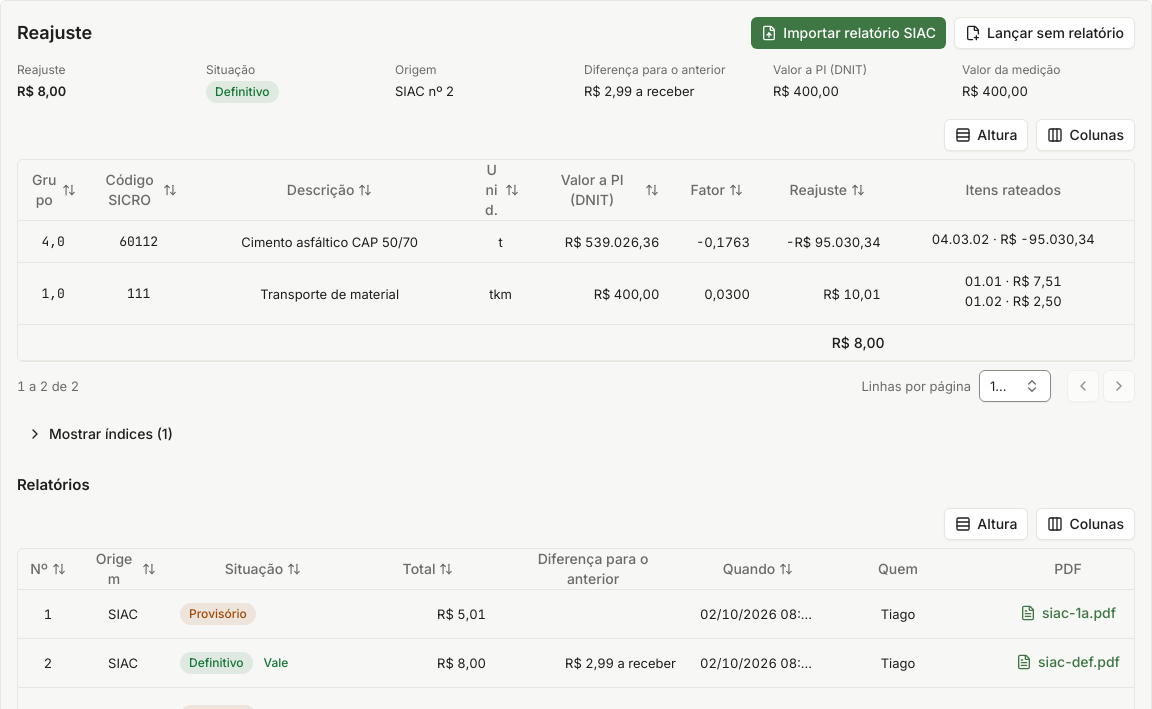
Test case: SecaoReajuste › relatório SIAC excluído libera o PDF: o mesmo arquivo aparece no Importar para ler de novo
Click the button "Importar relatório SIAC" at (849, 33), box [751, 17, 946, 49]
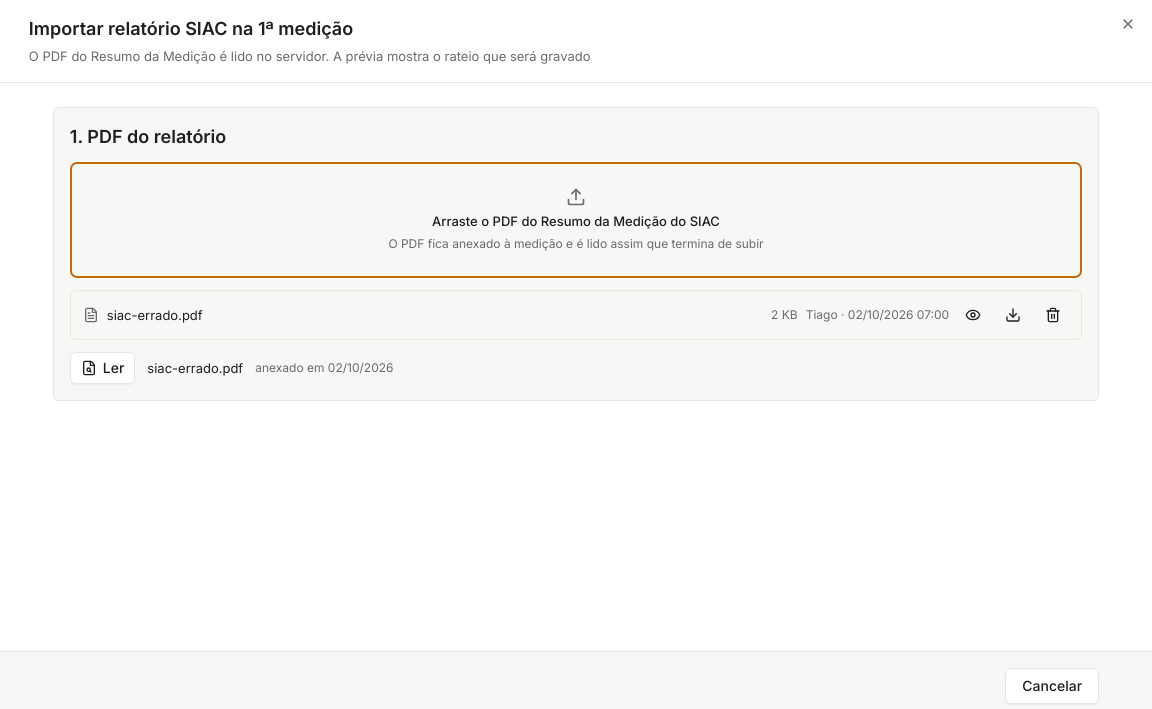
Expected: the button with aria-label "Ler siac-errado.pdf" is shown, [70, 352, 135, 384]
Expected: the text "siac-errado.pdf" next to "2 KB" is shown, [107, 307, 203, 323]
